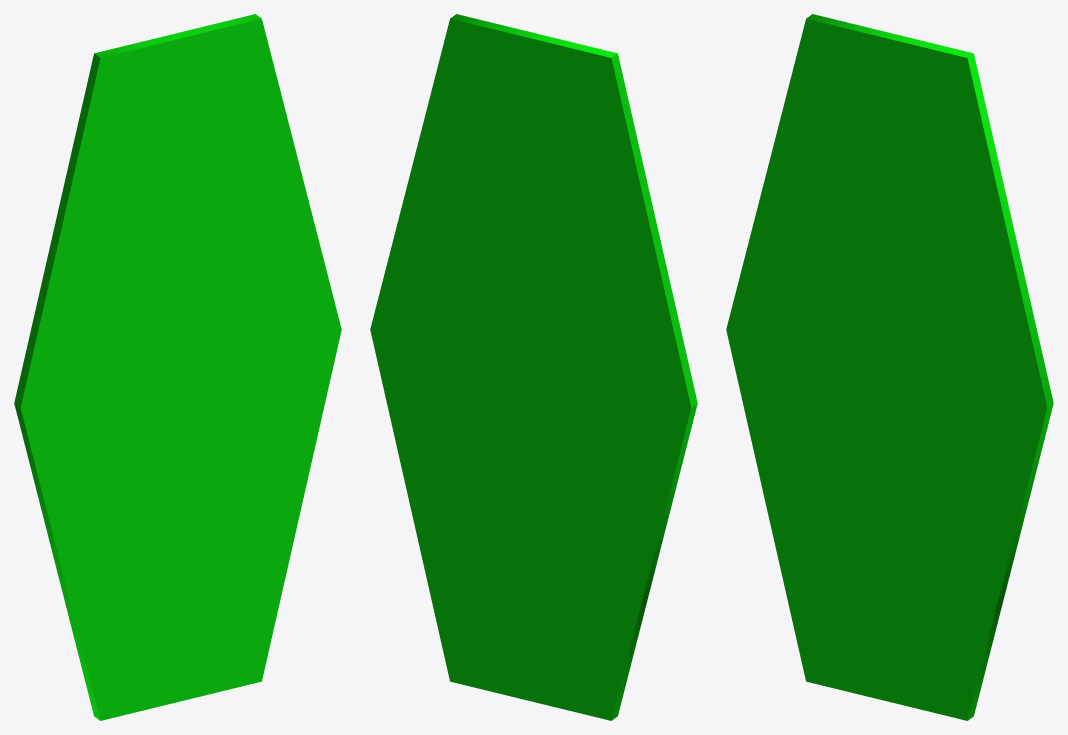
Rendered from hex_01_b.dae.
3 renders of one model, left to right at view 1: azimuth 30°, elevation 25°; view 2: azimuth 150°, elevation 25°; view 3: azimuth 330°, elevation 25°, orthographic.
Parts seen in each view (by area): view 1: Shield_Hex_01; view 2: Shield_Hex_01; view 3: Shield_Hex_01.
Boxes of the visible parts, x1,y1,x2,y2 form: Shield_Hex_01: (14,14,341,720); Shield_Hex_01: (370,14,697,720); Shield_Hex_01: (726,14,1053,720).
Bounding box in the file's own units: 1.33 × 0.0461 × 2.63.
